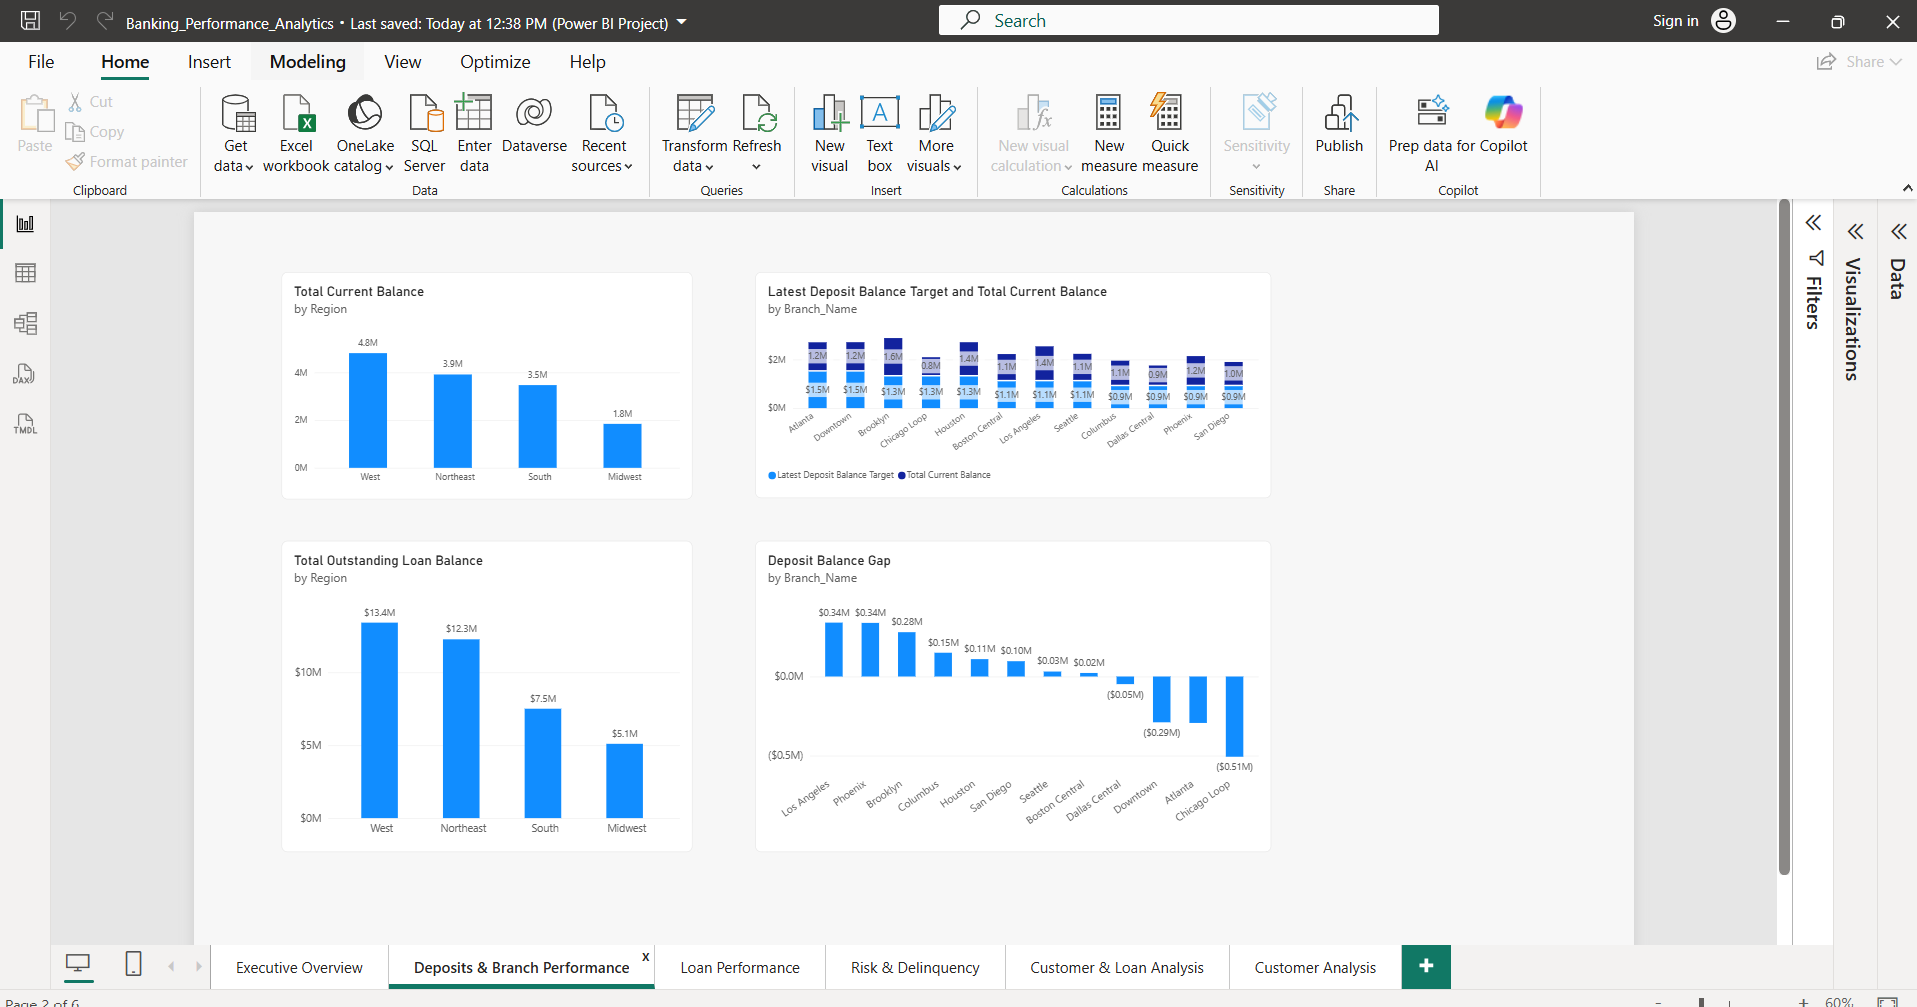

What the dashboard file says about the page in this screenshot:
{"tool":"powerbi","page":{"name":"Deposits & Branch Performance","canvas":[1920,1080],"ordinal":1},"visuals":[{"type":"clusteredColumnChart","fields":{"Category":["Branches.Region"],"Y":["Accounts.Total Current Balance"]},"box":[116.7,80,548.3,303.3],"z":0},{"type":"lineStackedColumnComboChart","fields":{"Category":["Branches.Branch_Name"],"Y":["Accounts.Latest Deposit Balance Target","Accounts.Total Current Balance"]},"box":[748.3,80,688.3,301.7],"z":1},{"type":"clusteredColumnChart","fields":{"Category":["Branches.Branch_Name"],"Y":["Accounts.Deposit Balance Gap"]},"box":[748.3,438.3,688.3,415],"z":2},{"type":"clusteredColumnChart","fields":{"Category":["Branches.Region"],"Y":["Accounts.Total Outstanding Loan Balance"]},"box":[116.7,438.3,548.3,415],"z":3}]}

Visuals, with their boxes on the page's 1920x1080 design canvas (x1, y1, x2, y2). These are canvas units, not pixel positions in the 1917x1007 screenshot, which may show the page scaled, cropped or inside an application window:
clusteredColumnChart - Branches.Region x Accounts.Total Current Balance: box(117, 80, 665, 383)
lineStackedColumnComboChart - Branches.Branch_Name x Accounts.Latest Deposit Balance Target: box(748, 80, 1437, 382)
clusteredColumnChart - Branches.Branch_Name x Accounts.Deposit Balance Gap: box(748, 438, 1437, 853)
clusteredColumnChart - Branches.Region x Accounts.Total Outstanding Loan Balance: box(117, 438, 665, 853)
